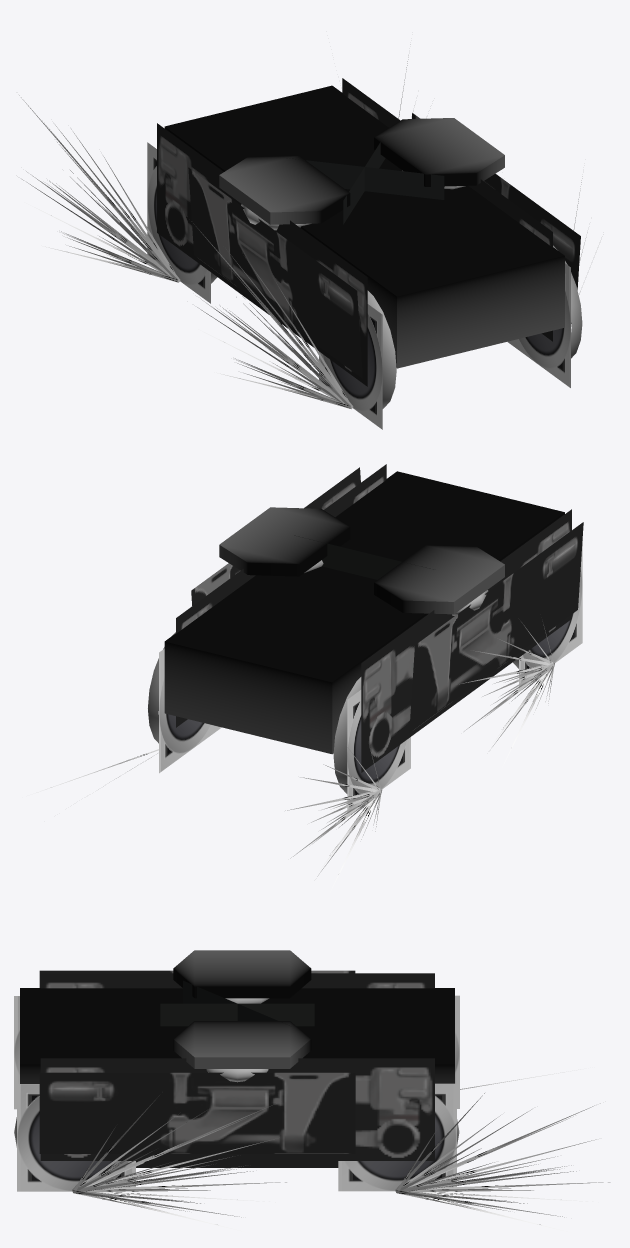
Rendered from MUTRACK_LOW.glb.
The picture shows the model from 3 angles, top to bottom: view 1: azimuth 30°, elevation 25°; view 2: azimuth 150°, elevation 25°; view 3: azimuth 270°, elevation 25°; orthographic projection. The views are drawn at different scales.
Visible parts, largest first — view 1: obj25, obj1, FR0, FR1; view 2: obj25, obj1, FR1, FR0; view 3: obj25, obj1, FL1, FL0.
Part boxes in pixels (bbox=[...]): obj25: bbox=[147, 78, 582, 429]; obj1: bbox=[219, 118, 504, 230]; FR0: bbox=[191, 221, 353, 409]; FR1: bbox=[19, 95, 180, 282]; obj25: bbox=[148, 464, 583, 813]; obj1: bbox=[219, 507, 504, 615]; FR1: bbox=[285, 748, 382, 891]; FR0: bbox=[459, 621, 555, 765]; obj25: bbox=[14, 970, 459, 1191]; obj1: bbox=[173, 950, 311, 1082]; FL1: bbox=[395, 1093, 610, 1231]; FL0: bbox=[72, 1092, 286, 1231].
Size of the model in its own units: 6.84 by 3.05 by 10.15.
28 materials, 27 textured.
